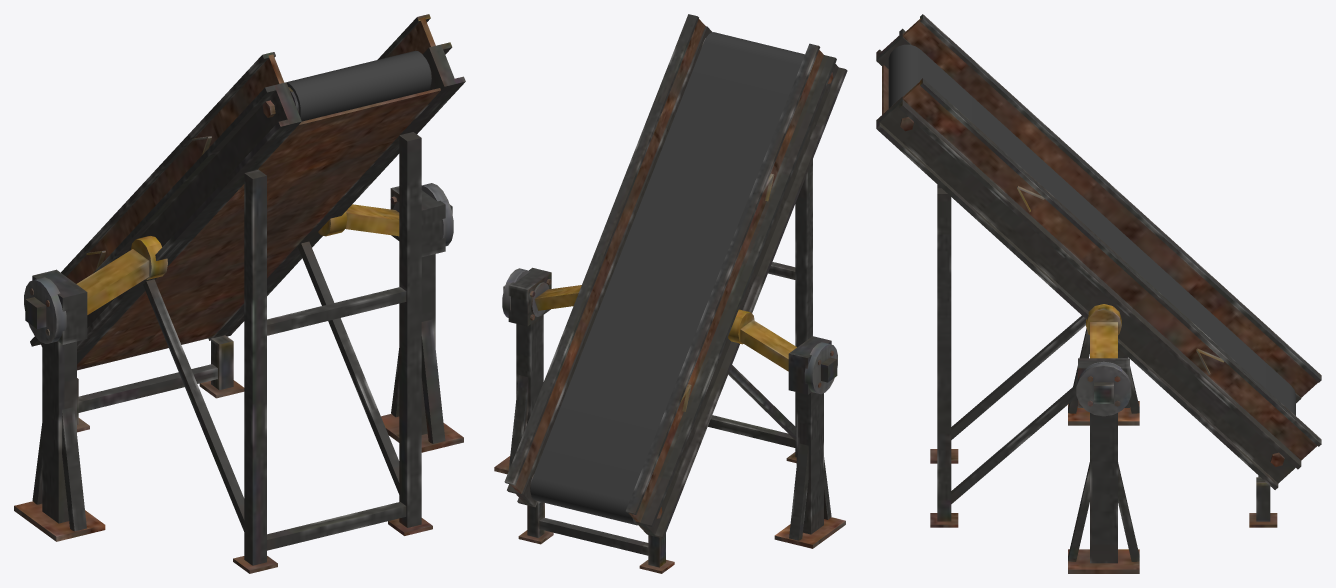
File: feConveyorRamp.glb
3 views of the same model, side by side, from view 1: azimuth 30°, elevation 25°; view 2: azimuth 150°, elevation 25°; view 3: azimuth 270°, elevation 25° (orthographic). The views are drawn at different scales.
Parts seen in each view (by area): view 1: feConveyorRamp_Base, FeBeltDrive_R.001, FeBeltDrive_L.001, FeSpin_BeltDrive_R.001, FeSpin_BeltDrive_L.001; view 2: feConveyorRamp_Base, FeBeltDrive_R.001, FeBeltDrive_L.001, FeSpin_BeltDrive_R.001; view 3: feConveyorRamp_Base, FeBeltDrive_L.001, FeSpin_BeltDrive_L.001, FeBeltDrive_R.001.
Boxes of the visible parts, x1=… form: feConveyorRamp_Base: x1=30, y1=14, x2=465, y2=573; FeBeltDrive_R.001: x1=14, y1=236, x2=167, y2=541; FeBeltDrive_L.001: x1=318, y1=186, x2=463, y2=452; FeSpin_BeltDrive_R.001: x1=24, y1=277, x2=66, y2=343; FeSpin_BeltDrive_L.001: x1=421, y1=183, x2=453, y2=246; feConveyorRamp_Base: x1=504, y1=14, x2=847, y2=573; FeBeltDrive_R.001: x1=728, y1=309, x2=845, y2=548; FeBeltDrive_L.001: x1=494, y1=267, x2=581, y2=474; FeSpin_BeltDrive_R.001: x1=804, y1=342, x2=837, y2=394; feConveyorRamp_Base: x1=876, y1=14, x2=1321, y2=527; FeBeltDrive_L.001: x1=1068, y1=304, x2=1139, y2=573; FeSpin_BeltDrive_L.001: x1=1076, y1=361, x2=1131, y2=416; FeBeltDrive_R.001: x1=1068, y1=328, x2=1139, y2=425.
Bounding box in the file's own units: 1.02 × 1.22 × 1.12.
2 materials, 1 textured.
